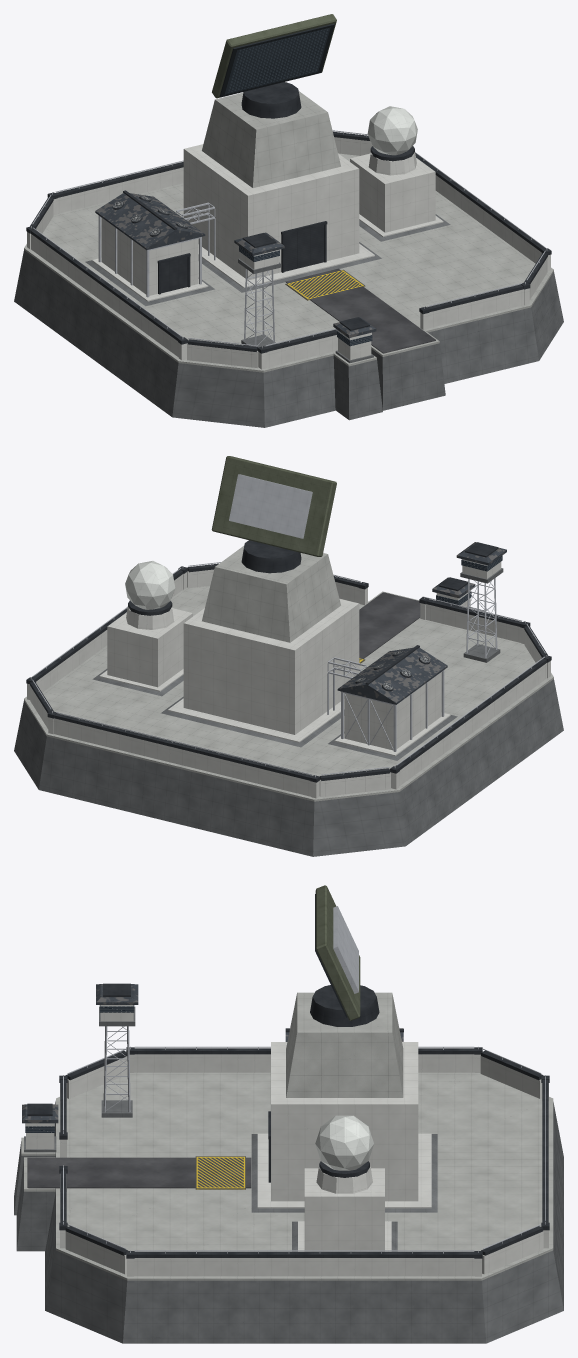
The model's file is abm_radar_lvl2.glb.
3 views of the same model, one above another, from view 1: azimuth 30°, elevation 25°; view 2: azimuth 150°, elevation 25°; view 3: azimuth 270°, elevation 25° (orthographic). The views are drawn at different scales.
Visible parts, largest first — view 1: RAD_L2_ConcLight, RAD_L2_ConcMid, RAD_L2_ConcDark, RAD_L2_SteelDark, RAD_L2_PhasedArray, RAD_L2_SteelTruss, RAD_L2_RoofCorr, RAD_L2_Asphalt, RAD_L2_DoorCorr, RAD_L2_Radome, RAD_L2_MilOlive, RAD_L2_HatchZone; view 2: RAD_L2_ConcLight, RAD_L2_ConcDark, RAD_L2_ConcMid, RAD_L2_SteelDark, RAD_L2_SteelTruss, RAD_L2_MilOlive, RAD_L2_RoofCorr, RAD_L2_Asphalt, RAD_L2_Radome; view 3: RAD_L2_ConcMid, RAD_L2_ConcDark, RAD_L2_ConcLight, RAD_L2_SteelDark, RAD_L2_Asphalt, RAD_L2_SteelTruss, RAD_L2_Radome, RAD_L2_MilOlive, RAD_L2_HatchZone, RAD_L2_RoofCorr.
Boxes of the visible parts, x1,y1,x2,y2 form: RAD_L2_ConcLight: [27, 137, 550, 369]; RAD_L2_ConcMid: [24, 82, 553, 372]; RAD_L2_ConcDark: [14, 214, 563, 427]; RAD_L2_SteelDark: [26, 82, 551, 353]; RAD_L2_PhasedArray: [219, 23, 334, 97]; RAD_L2_SteelTruss: [30, 130, 547, 348]; RAD_L2_RoofCorr: [95, 193, 376, 337]; RAD_L2_Asphalt: [285, 268, 435, 353]; RAD_L2_DoorCorr: [161, 225, 324, 293]; RAD_L2_Radome: [367, 106, 417, 155]; RAD_L2_MilOlive: [212, 14, 336, 98]; RAD_L2_HatchZone: [285, 269, 365, 300]; RAD_L2_ConcLight: [27, 559, 550, 798]; RAD_L2_ConcDark: [14, 568, 563, 856]; RAD_L2_ConcMid: [24, 546, 553, 801]; RAD_L2_SteelDark: [26, 540, 551, 782]; RAD_L2_SteelTruss: [30, 474, 547, 777]; RAD_L2_MilOlive: [211, 456, 336, 556]; RAD_L2_RoofCorr: [337, 542, 506, 704]; RAD_L2_Asphalt: [359, 592, 420, 658]; RAD_L2_Radome: [125, 561, 175, 609]; RAD_L2_ConcMid: [21, 992, 553, 1280]; RAD_L2_ConcDark: [14, 1006, 563, 1343]; RAD_L2_ConcLight: [25, 1005, 548, 1276]; RAD_L2_SteelDark: [27, 983, 549, 1258]; RAD_L2_Asphalt: [27, 1157, 251, 1188]; RAD_L2_SteelTruss: [63, 906, 545, 1253]; RAD_L2_Radome: [315, 1115, 373, 1170]; RAD_L2_MilOlive: [315, 885, 360, 1020]; RAD_L2_HatchZone: [195, 1156, 245, 1189]; RAD_L2_RoofCorr: [22, 984, 403, 1123].
Size of the model in its own units: 77.5 by 52.64 by 82.15.
14 materials, 14 textured.
